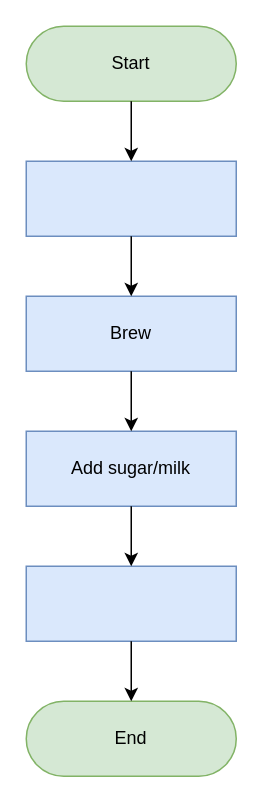
The diagram is 263 pixels wide and 803 high, and some of its shapes have lost their labels. The shapes that lost their labels are listed below. From the top down, each one's centre as x and y in pixels, then its label:
At point (130, 198): "Choose coffee type".
At point (130, 603): "Serve".
